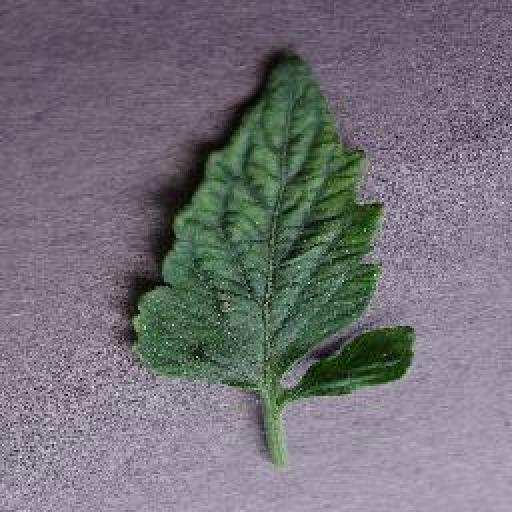disease_tomato: (126, 49, 416, 403)
